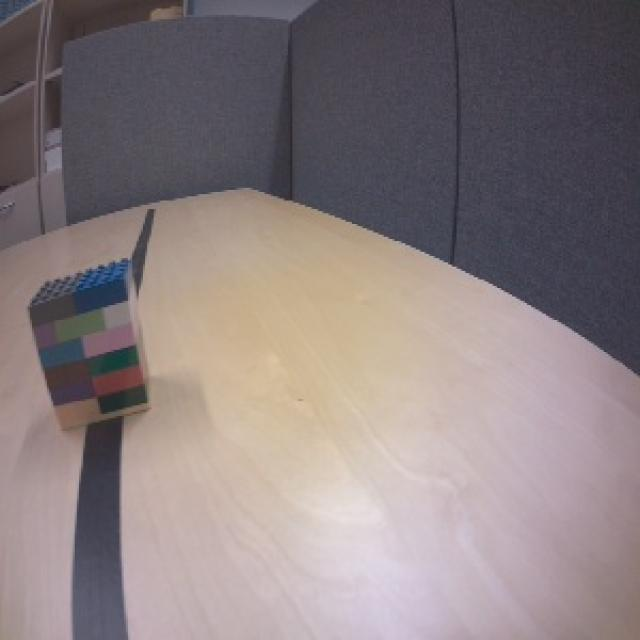obstacle: (25, 254, 155, 435)
